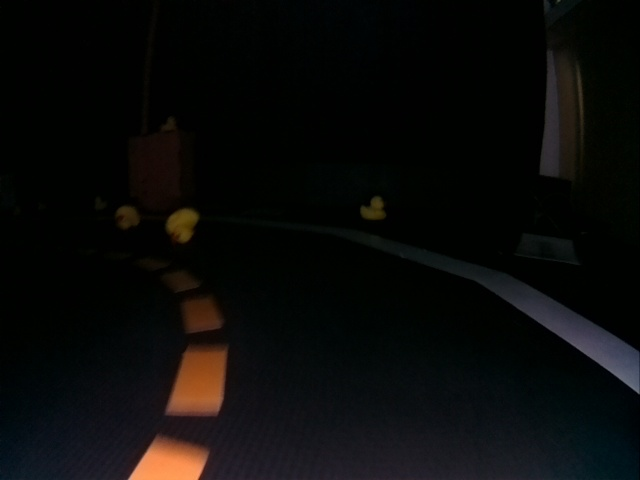Duckie: (166, 208, 199, 243), (361, 197, 386, 220), (115, 206, 139, 227), (163, 118, 175, 132)
